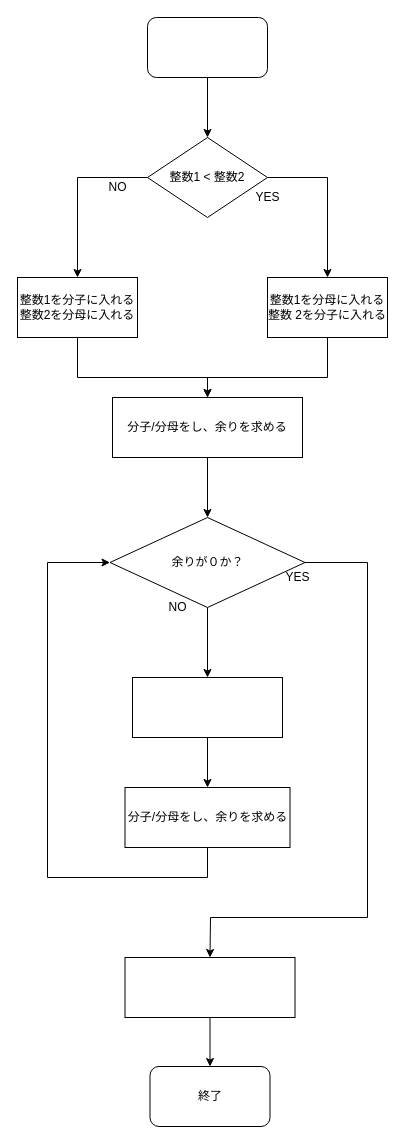
Image size: 405x1144. Some labels were removed from this diagram. The centre of each missing label's shape, as x and y in pixels:
分母に入っている数が整数1と整数2の最大公約数になる: (x=209, y=987)
分母を分子に入れる 余りを分母に入れる: (x=207, y=707)
開始: (x=207, y=47)
